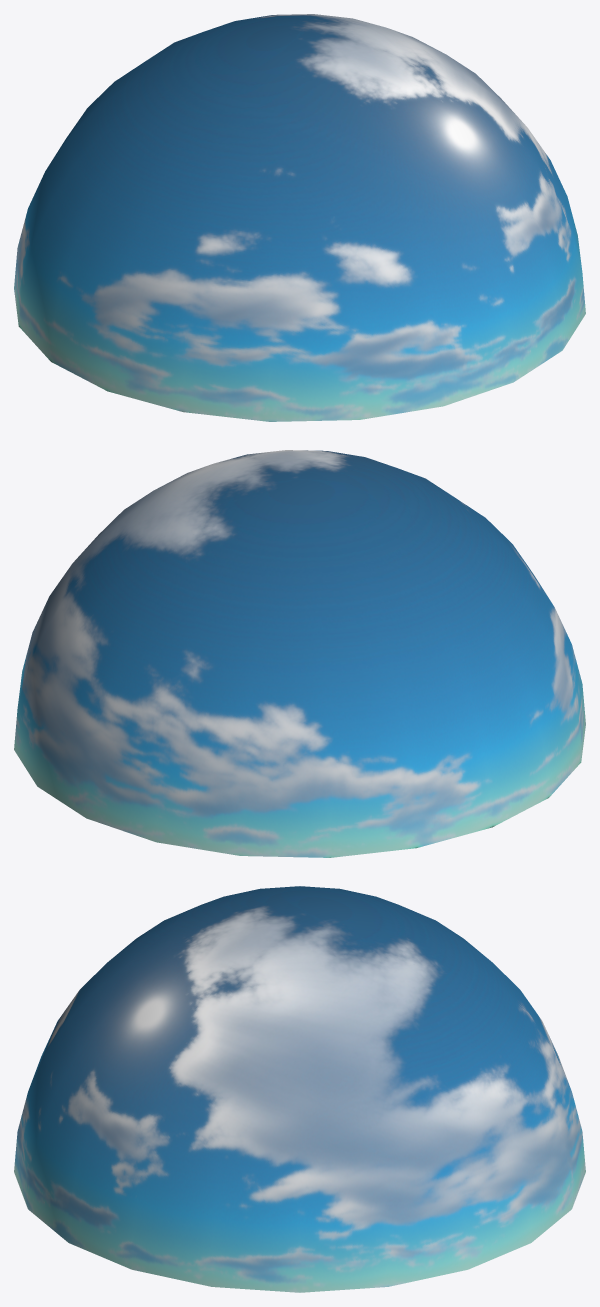
The model's file is TATC_Asset_skyDome02.glb.
The picture shows the model from 3 angles, top to bottom: view 1: azimuth 30°, elevation 25°; view 2: azimuth 150°, elevation 25°; view 3: azimuth 270°, elevation 25°; orthographic projection.
Parts seen in each view (by area): view 1: pSphere1; view 2: pSphere1; view 3: pSphere1.
Part boxes in pixels (bbox=[...]): pSphere1: bbox=[14, 14, 585, 421]; pSphere1: bbox=[14, 450, 585, 857]; pSphere1: bbox=[14, 886, 585, 1292].
Bounding box in the file's own units: 17.01 × 8.51 × 17.01.
Materials: 1 (1 with a texture image).
